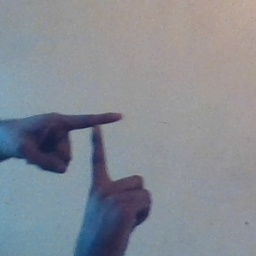T: (33, 98, 147, 210)
